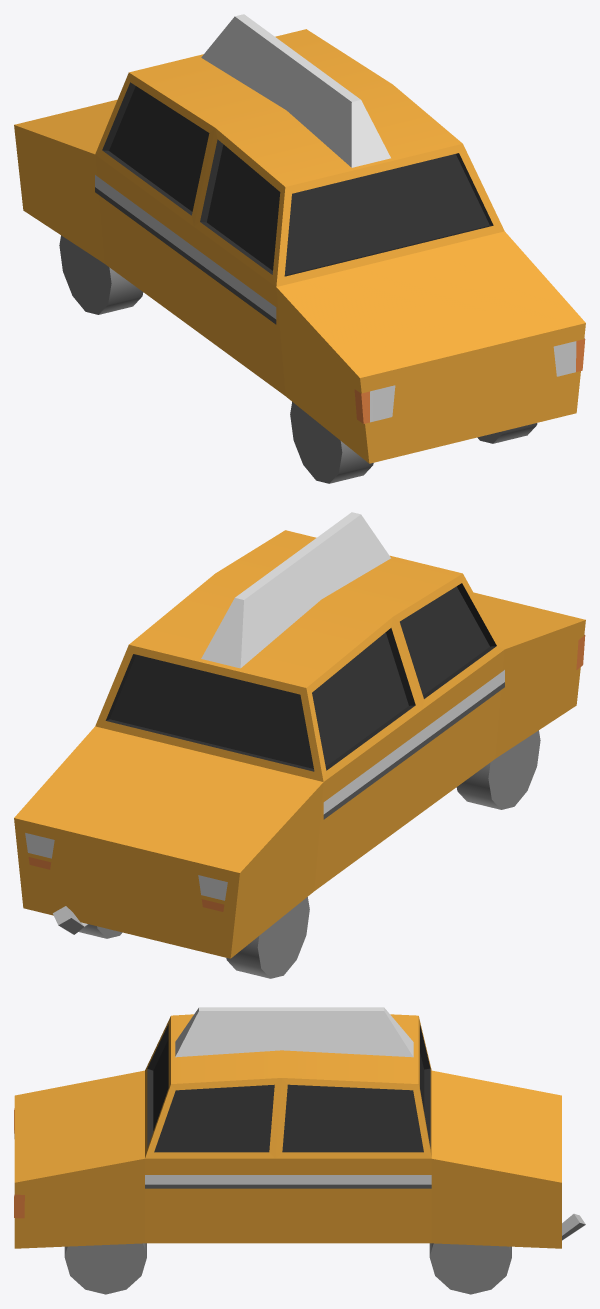
Rendered from taxi_01.fbx.
3 renders of one model, top to bottom at view 1: azimuth 30°, elevation 25°; view 2: azimuth 150°, elevation 25°; view 3: azimuth 270°, elevation 25°, orthographic. The views are drawn at different scales.
Visible parts, largest first — view 1: taxi_01; view 2: taxi_01; view 3: taxi_01.
Part boxes in pixels (left/top/right/bottom): taxi_01: left=14, top=14, right=585, bottom=483; taxi_01: left=14, top=512, right=585, bottom=978; taxi_01: left=14, top=1007, right=585, bottom=1294.
Size of the model in its own units: 1.6 by 2.09 by 4.39.
